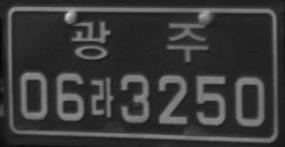0: (232, 75, 266, 128), (19, 70, 48, 120)
2: (156, 73, 188, 126)
3: (119, 73, 150, 124)
5: (193, 73, 227, 126)
6: (55, 72, 85, 122)
광주_D: (71, 20, 208, 63)
라: (89, 76, 114, 117)
